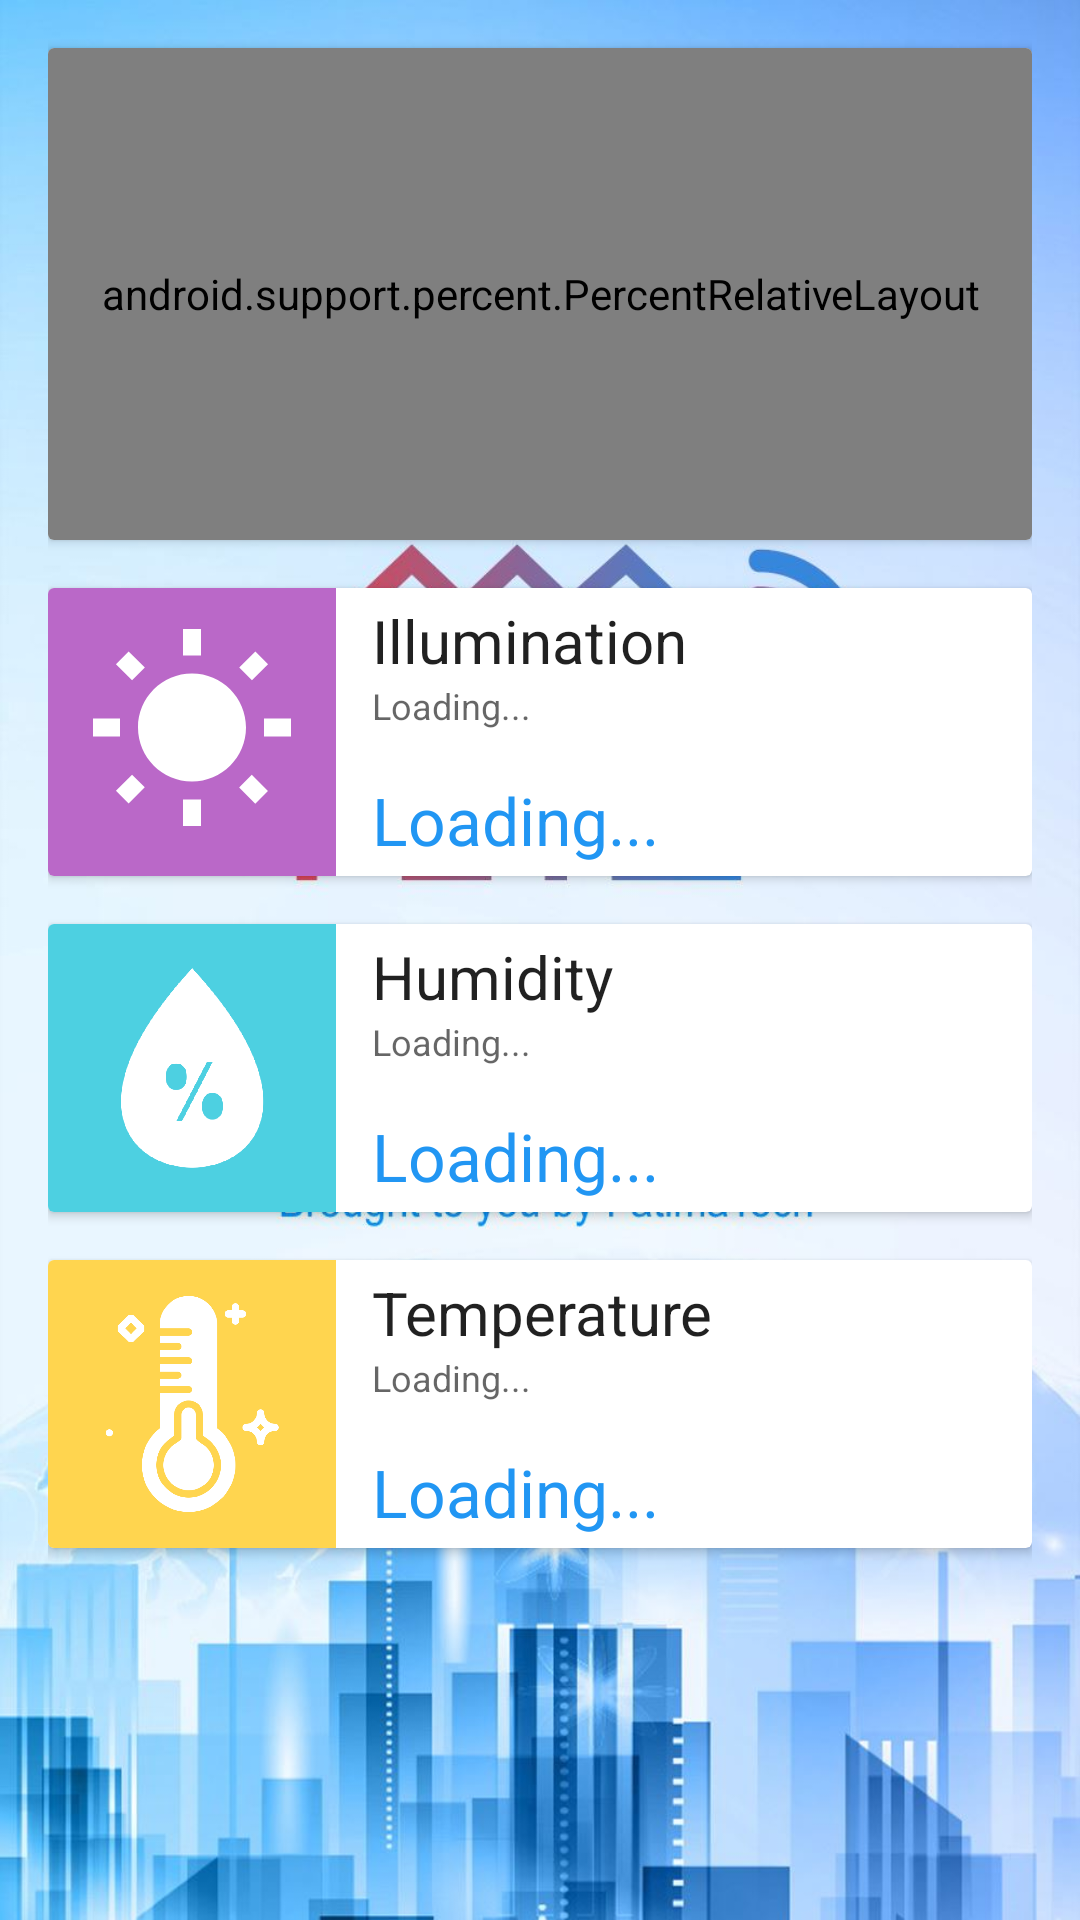

Where to tap for icons on this 1080px x 1920px app screen, as [x,y]:
sunny: [192,732]
